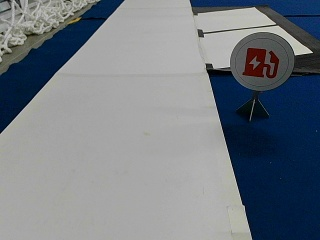battery: (228, 30, 294, 90)
